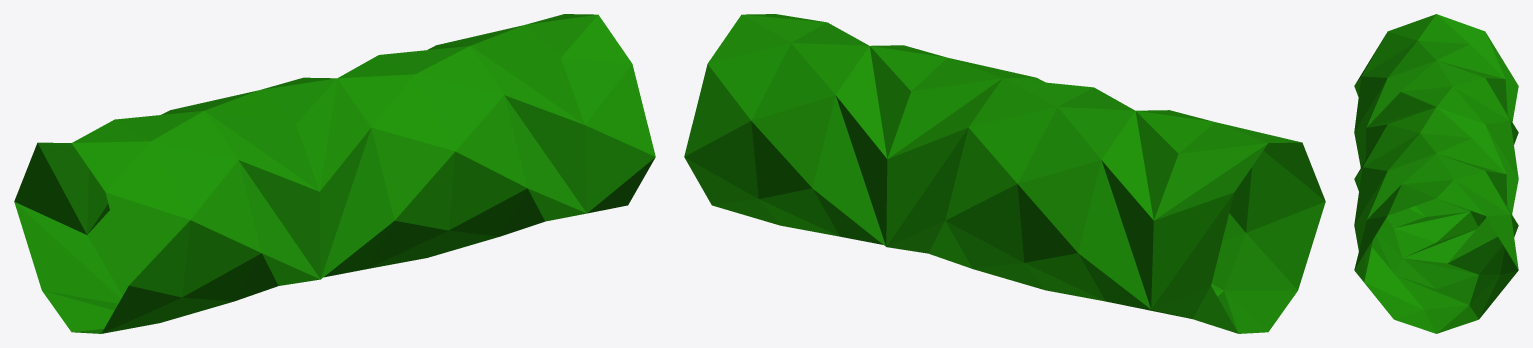
File: Snake_middle.glb
The picture shows the model from 3 angles, left to right: view 1: azimuth 30°, elevation 25°; view 2: azimuth 150°, elevation 25°; view 3: azimuth 270°, elevation 25°; orthographic projection. The views are drawn at different scales.
Parts seen in each view (by area): view 1: Snake_middle; view 2: Snake_middle; view 3: Snake_middle.
Boxes of the visible parts, x1,y1,x2,y2 form: Snake_middle: [14, 14, 655, 333]; Snake_middle: [684, 14, 1325, 333]; Snake_middle: [1354, 14, 1518, 333].
Size of the model in its own units: 2 by 0.6861 by 0.7542.
